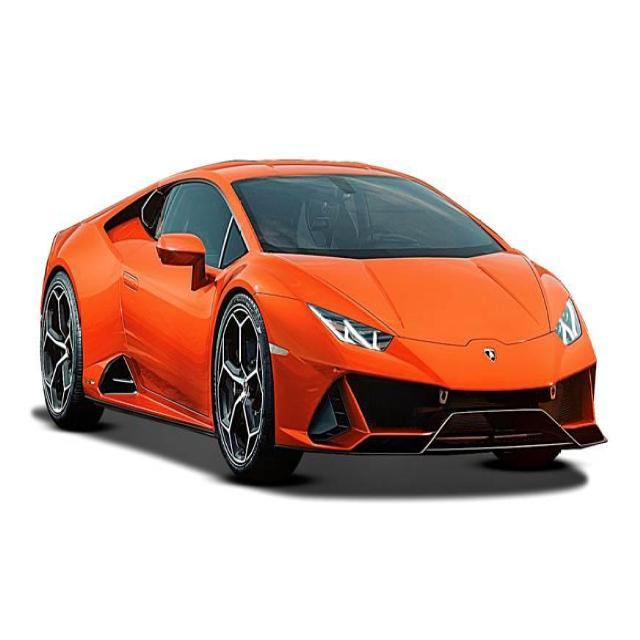cars10: (37, 154, 611, 487)
